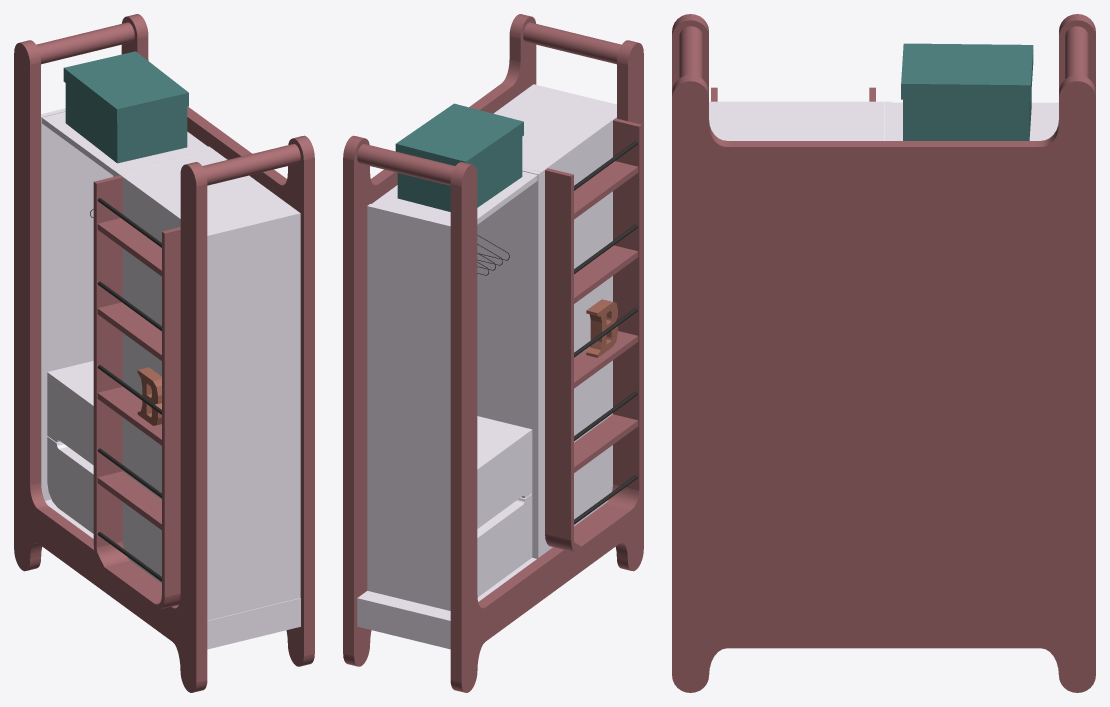
File: Furn4_chest_color3_joined.fbx
3 renders of one model, left to right at view 1: azimuth 30°, elevation 25°; view 2: azimuth 150°, elevation 25°; view 3: azimuth 270°, elevation 25°, orthographic. The views are drawn at different scales.
Visible parts, largest first — view 1: Куб.256; view 2: Куб.256; view 3: Куб.256.
Part boxes in pixels (x1=…): Куб.256: x1=14, y1=14, x2=314, y2=692; Куб.256: x1=343, y1=14, x2=643, y2=692; Куб.256: x1=672, y1=14, x2=1095, y2=692.
Size of the model in its own units: 133 by 502 by 315.
